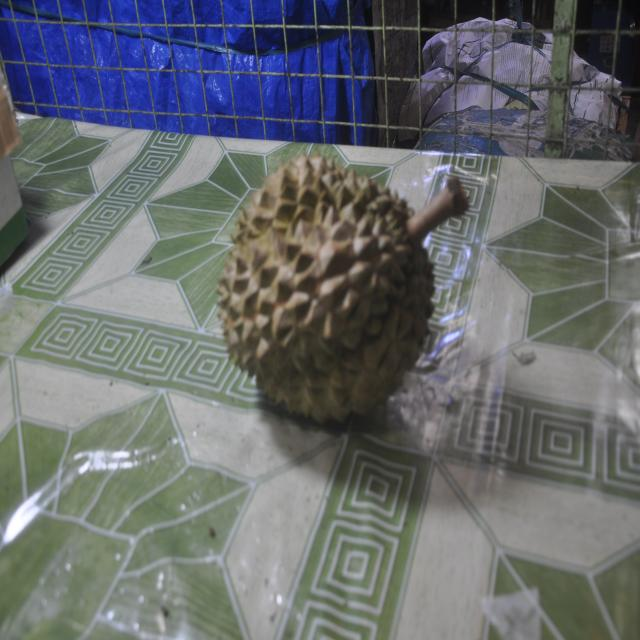mature: (203, 101, 471, 456)
